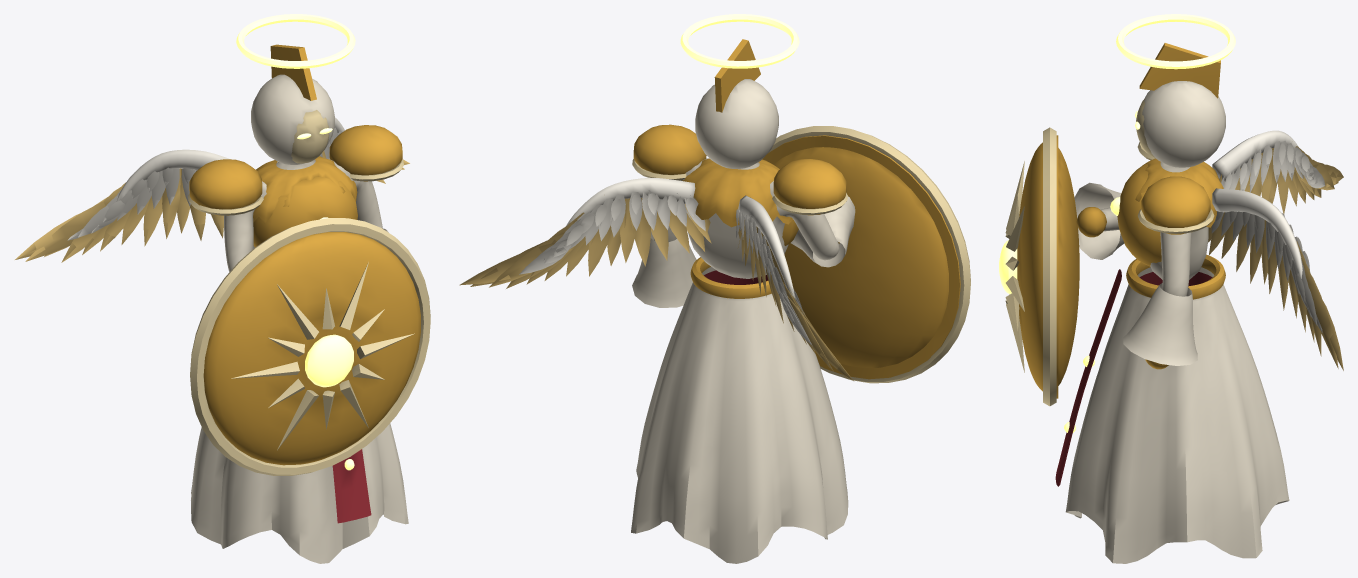
The model's file is icon_shield.glb.
3 renders of one model, left to right at view 1: azimuth 30°, elevation 25°; view 2: azimuth 150°, elevation 25°; view 3: azimuth 270°, elevation 25°, orthographic.
Visible parts, largest first — view 1: body, wing_L_a, spin_y_halo; view 2: body, wing_R_a, wing_L_a, spin_y_halo; view 3: body, wing_R_a, wing_L_a, spin_y_halo.
Part boxes in pixels (<box>): body: <box>188,44,430,563</box>; wing_L_a: <box>15,149,229,262</box>; spin_y_halo: <box>236,14,355,68</box>; body: <box>631,39,970,563</box>; wing_R_a: <box>459,177,711,288</box>; wing_L_a: <box>736,195,853,380</box>; spin_y_halo: <box>680,14,799,68</box>; body: <box>999,43,1289,563</box>; wing_R_a: <box>1208,188,1343,370</box>; wing_L_a: <box>1212,130,1343,213</box>; spin_y_halo: <box>1116,14,1235,69</box>.
Size of the model in its own units: 1.64 by 1.91 by 1.23.
